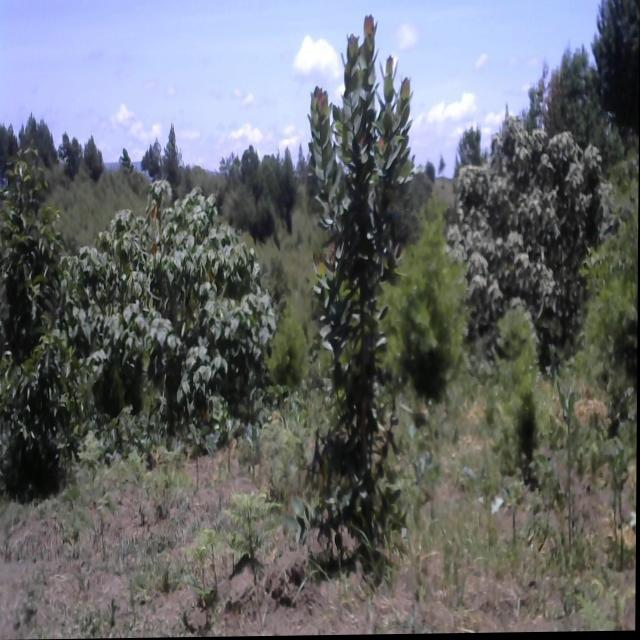Hass Avocado: (0, 141, 72, 495)
Podocarpus falcatus: (397, 199, 472, 389), (494, 316, 563, 504)
cedrus: (593, 0, 640, 142), (271, 142, 296, 225), (83, 130, 106, 184), (162, 121, 183, 179), (20, 113, 41, 155), (41, 120, 56, 165)
other: (304, 11, 425, 564), (73, 166, 287, 440), (445, 111, 609, 359)
